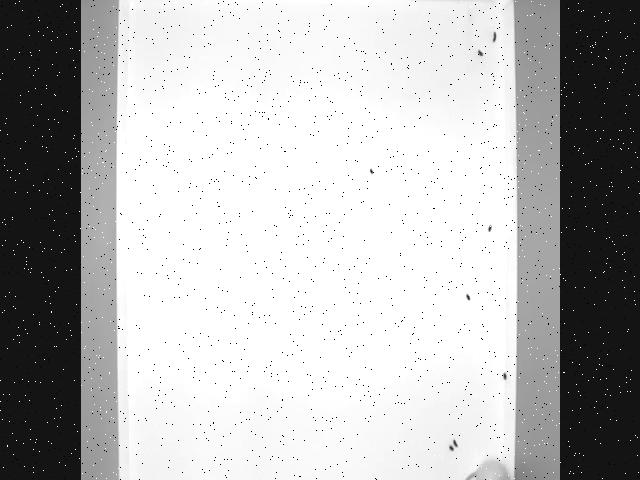Tikus: (459, 456, 513, 480)
